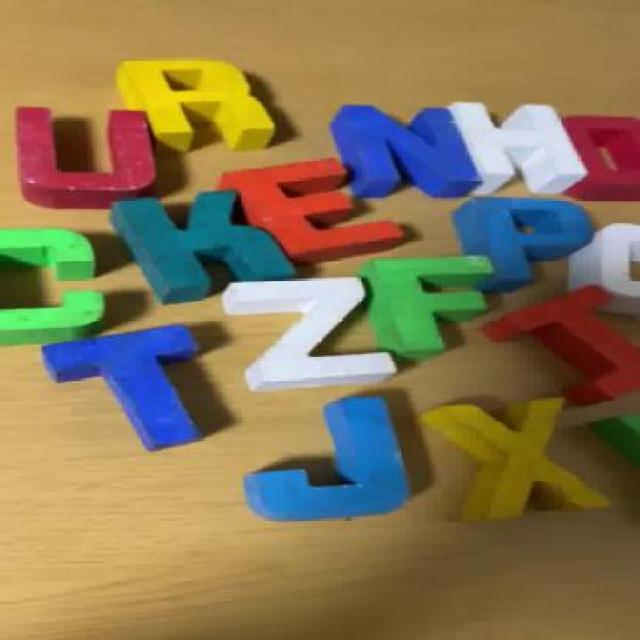C: (0, 226, 112, 350)
E: (203, 156, 406, 272)
F: (375, 252, 497, 360)
H: (452, 103, 576, 197)
I: (495, 287, 639, 401)
J: (254, 395, 409, 522)
K: (98, 190, 294, 301)
N: (326, 102, 474, 200)
O: (567, 109, 640, 204)
P: (460, 198, 591, 284)
R: (132, 60, 272, 146)
T: (25, 323, 207, 457)
U: (8, 108, 161, 206)
X: (441, 395, 588, 530)
Z: (214, 277, 408, 385)
